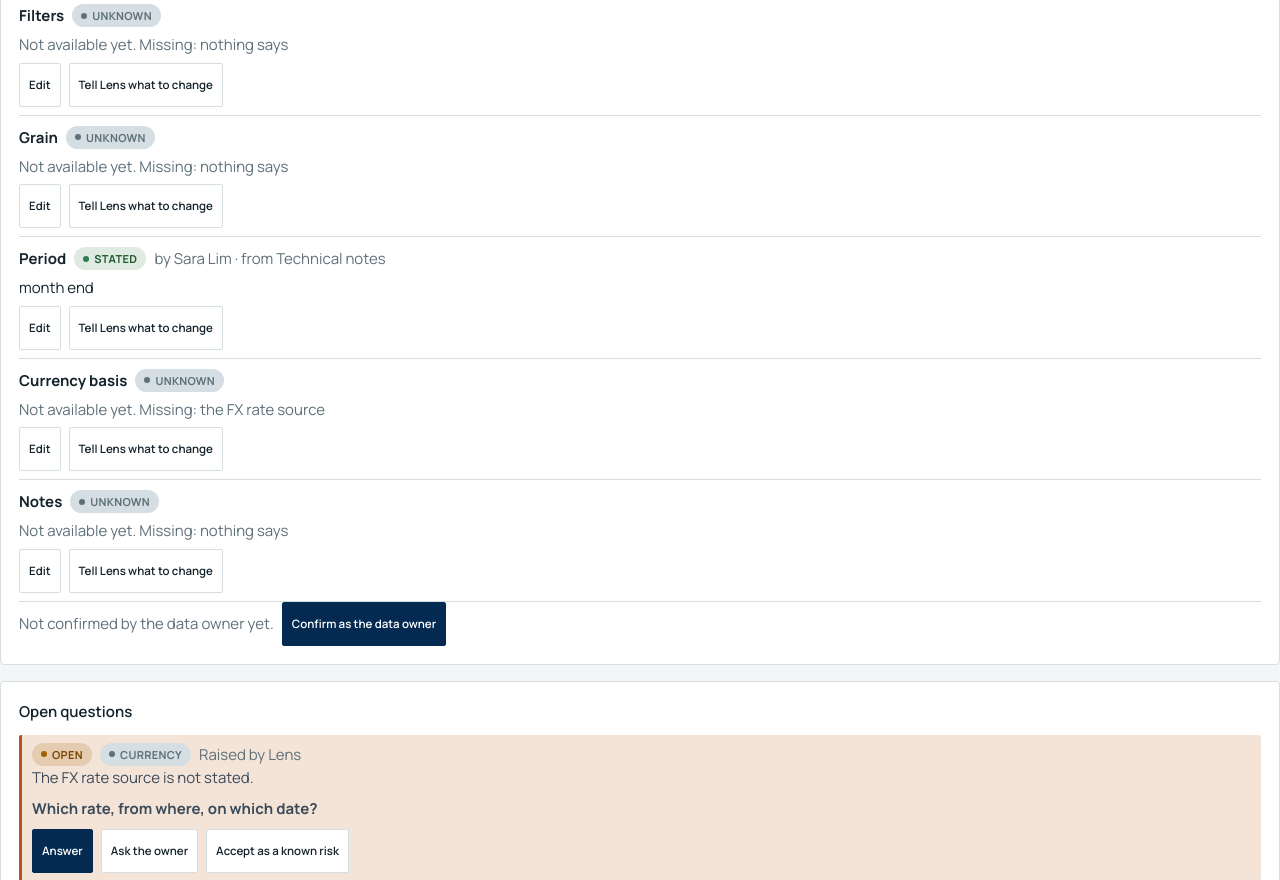
Scenario: what a person does to a part › the data owner confirms a complete definition; a refusal is shown in plain words
(page scrolled)
Click the button "Confirm as the data owner". click: [364, 624]
box: [282,602,446,646]
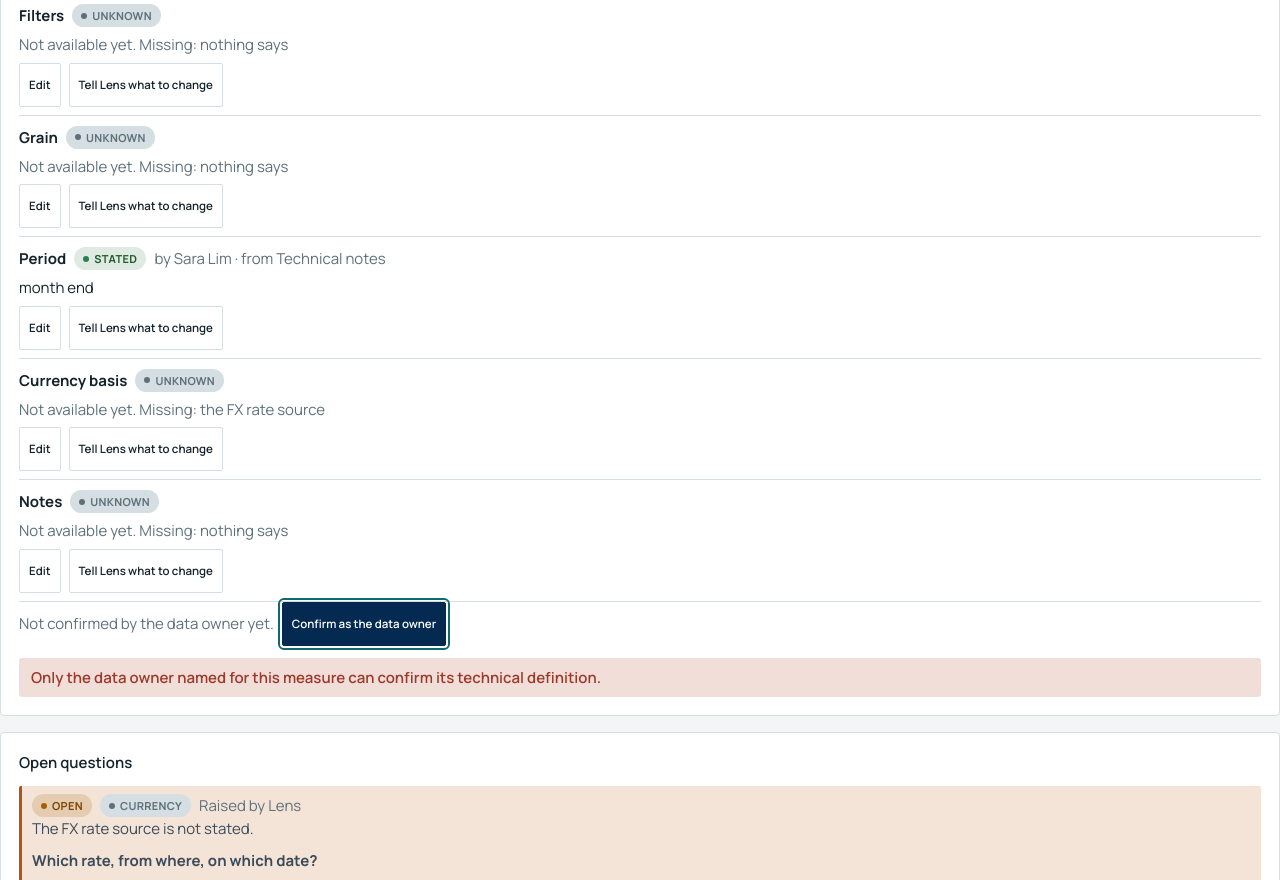
Result: the message shows "Only the data owner" at [31,666,601,688]
